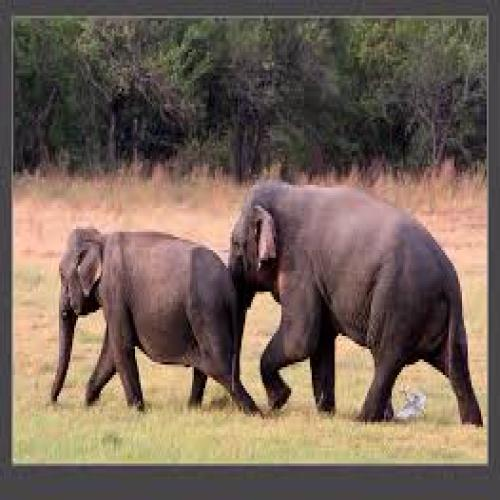asian_elephant-endangered: (228, 180, 484, 424), (54, 228, 261, 414)
